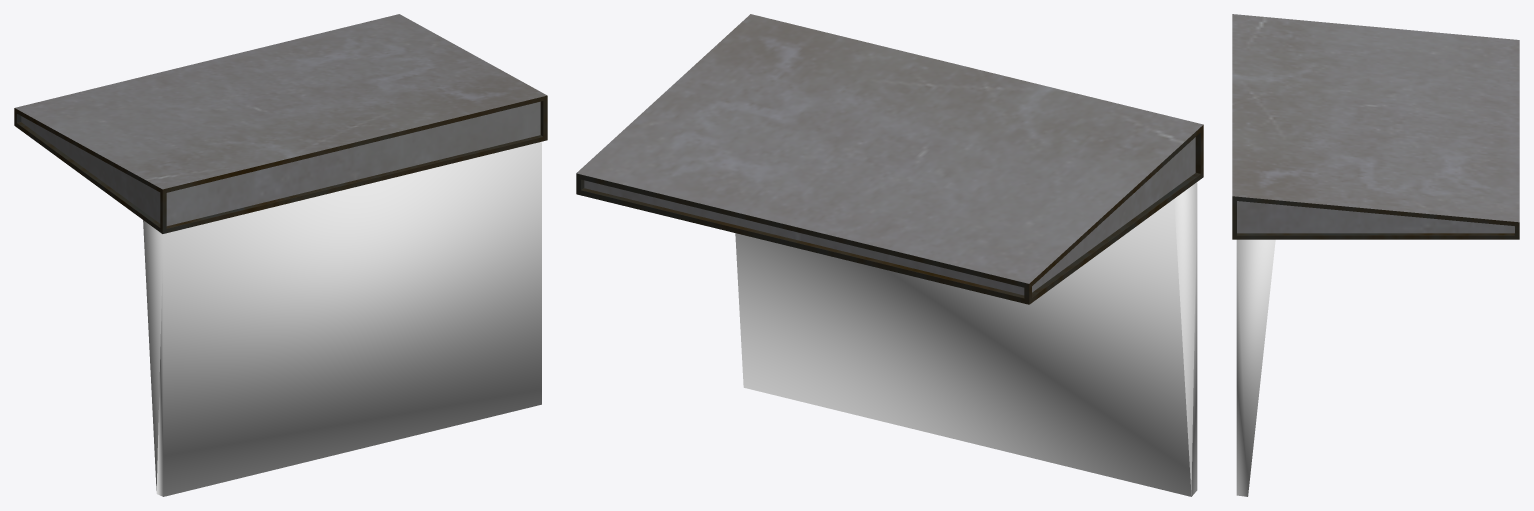
File: SM_Roof_Small_02.fbx
3 renders of one model, left to right at view 1: azimuth 30°, elevation 25°; view 2: azimuth 150°, elevation 25°; view 3: azimuth 270°, elevation 25°, orthographic. The views are drawn at different scales.
Parts seen in each view (by area): view 1: SM_Roof_Small_02_ConvexHulls, SM_Roof_Small_02; view 2: SM_Roof_Small_02, SM_Roof_Small_02_ConvexHulls; view 3: SM_Roof_Small_02, SM_Roof_Small_02_ConvexHulls.
Part boxes in pixels (<box>): SM_Roof_Small_02_ConvexHulls: <box>143,142,541,496</box>; SM_Roof_Small_02: <box>14,14,547,233</box>; SM_Roof_Small_02: <box>576,14,1203,304</box>; SM_Roof_Small_02_ConvexHulls: <box>735,182,1197,496</box>; SM_Roof_Small_02: <box>1232,14,1519,239</box>; SM_Roof_Small_02_ConvexHulls: <box>1236,239,1275,496</box>.
Size of the model in its own units: 4.5 by 3.47 by 3.
